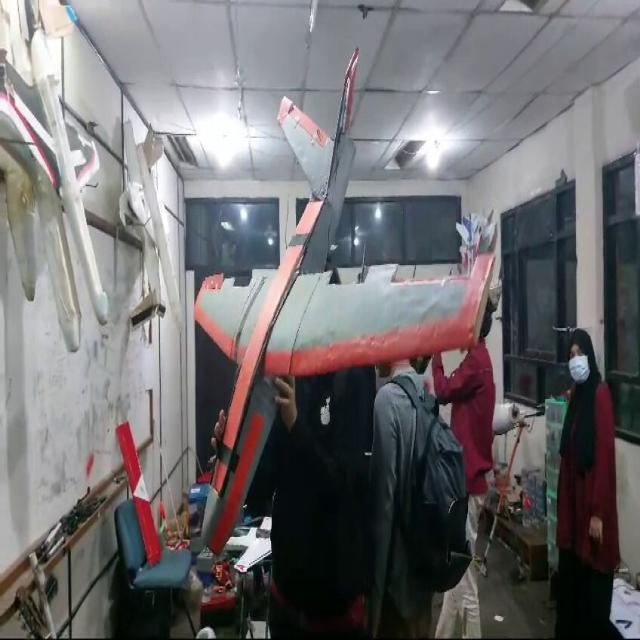plane: (193, 44, 501, 554)
